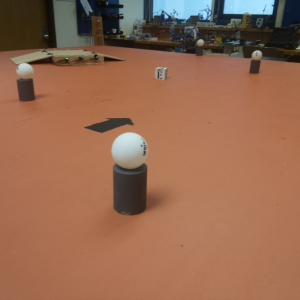obstacle: (113, 134, 149, 219), (15, 65, 39, 103), (249, 50, 262, 76), (195, 41, 205, 56)
side: (51, 53, 105, 68)
slope: (11, 51, 52, 64), (104, 54, 126, 65)
